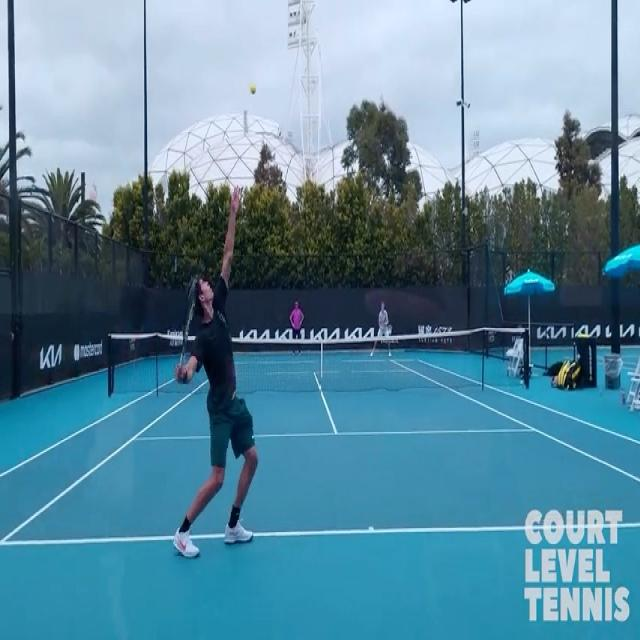serve_toss: (167, 187, 261, 552)
